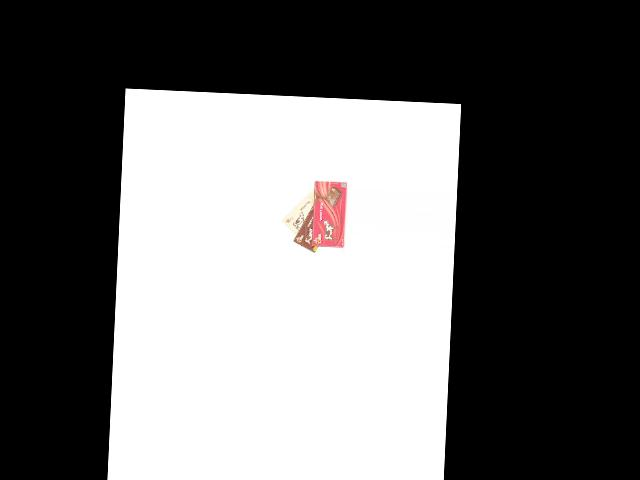chocolate: (280, 181, 320, 243)
